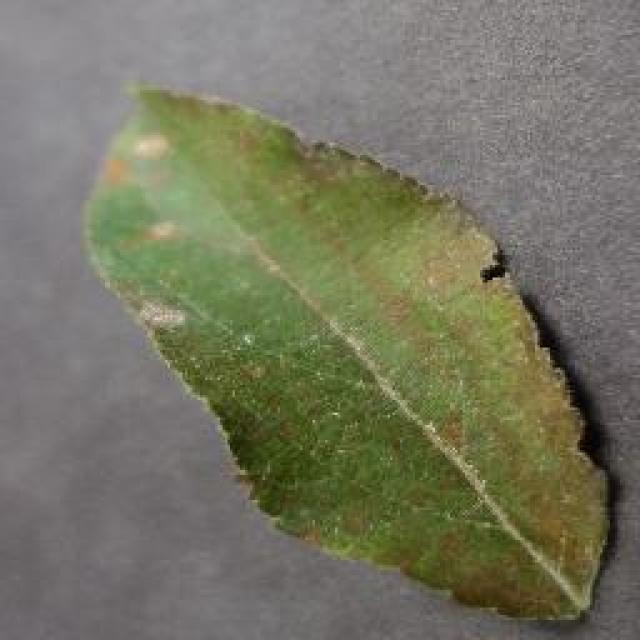apple cedar apple rust: (80, 77, 615, 625)
